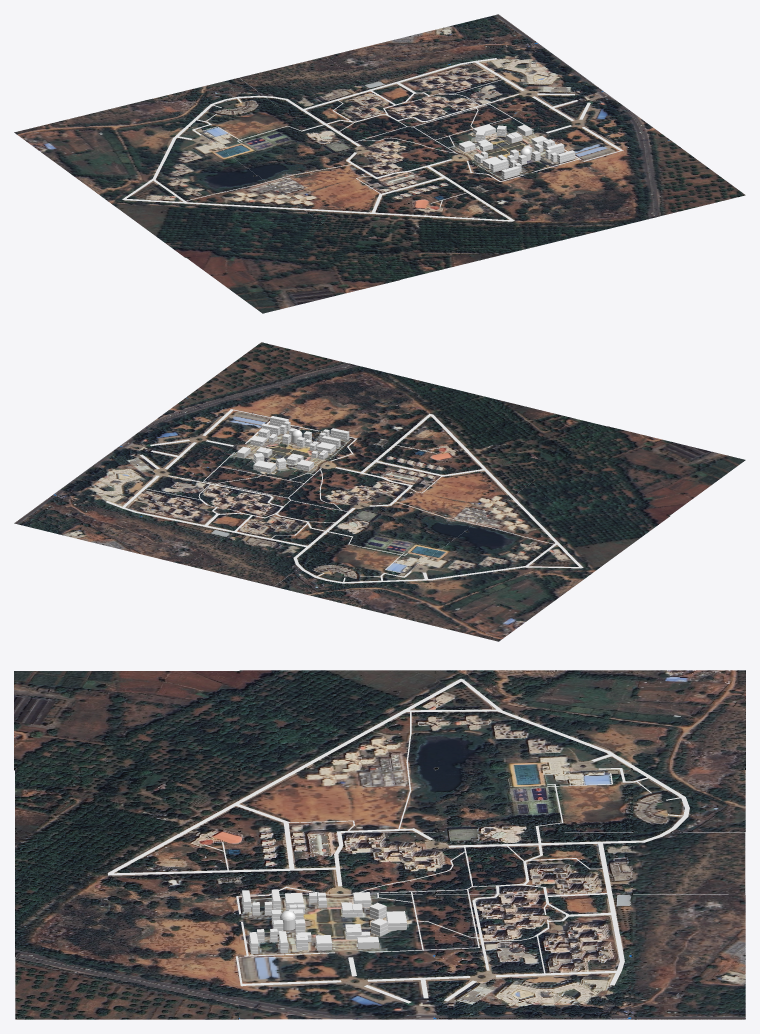
3 views of the same model, one above another, from view 1: azimuth 30°, elevation 25°; view 2: azimuth 150°, elevation 25°; view 3: azimuth 270°, elevation 25° (orthographic). The views are drawn at different scales.
Visible parts, largest first — view 1: Cube.023, Plane.020; view 2: Cube.023, Plane.020; view 3: Cube.023, Plane.020, Plane.007, Plane.021.
Boxes of the visible parts, left/top/right/bottom form: Cube.023: left=14, top=14, right=745, bottom=313; Plane.020: left=122, top=198, right=511, bottom=221; Cube.023: left=14, top=342, right=745, bottom=641; Plane.020: left=430, top=414, right=583, bottom=568; Cube.023: left=14, top=670, right=745, bottom=1019; Plane.020: left=108, top=678, right=464, bottom=873; Plane.007: left=598, top=843, right=624, bottom=961; Plane.021: left=108, top=867, right=335, bottom=875.
Bounding box in the file's own units: 22.98 × 0.4924 × 20.35.
214 materials, 20 textured.
